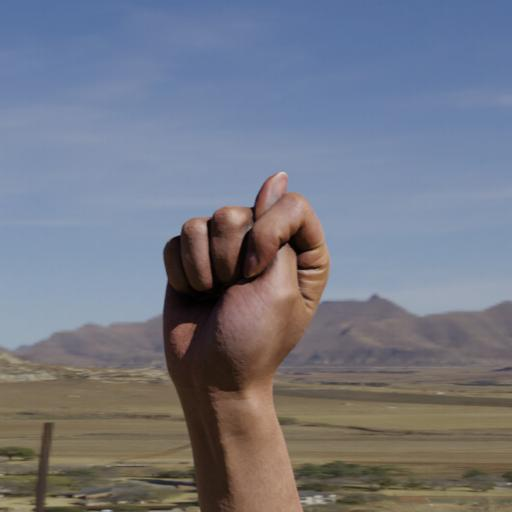T: (161, 168, 332, 402)
